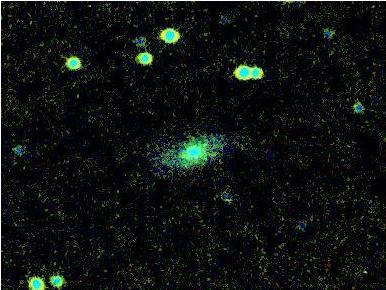star: (70, 81, 100, 111)
